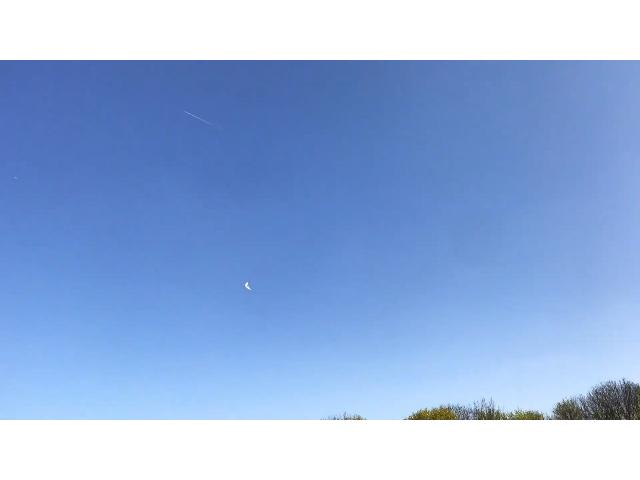Anti-Drone: (232, 277, 260, 299)
